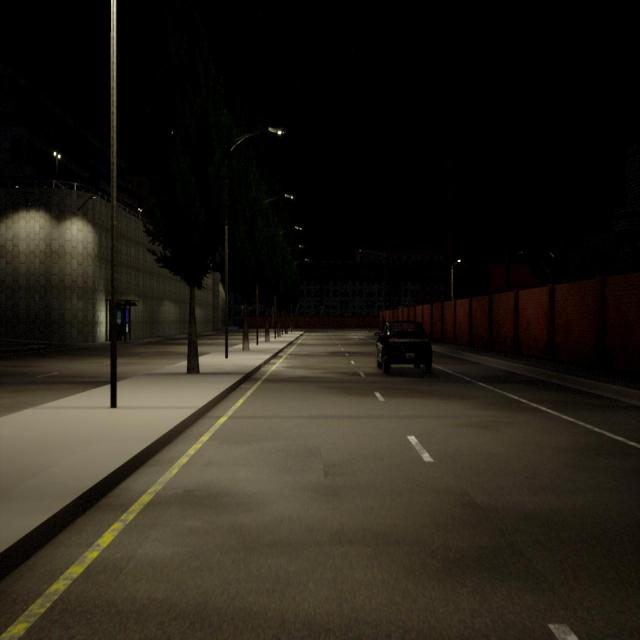Vehicle: (377, 320, 431, 371)
